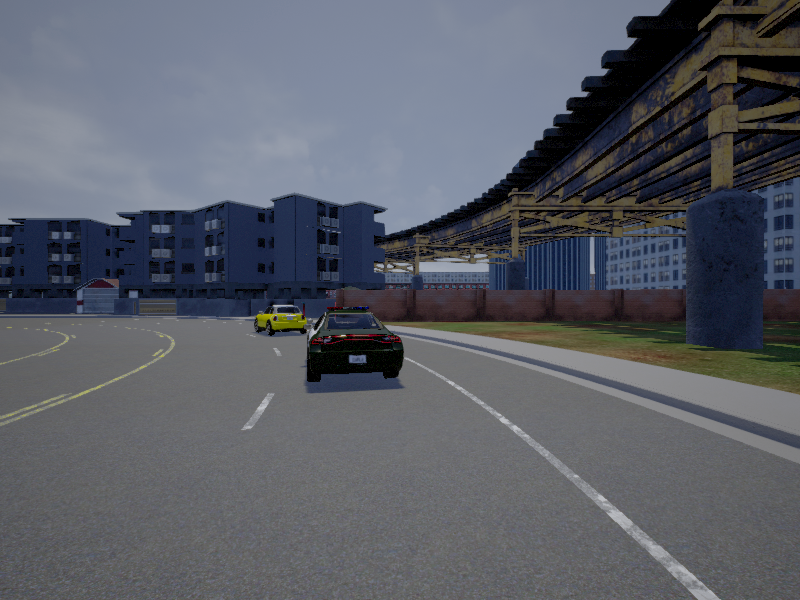Benign: (308, 306, 404, 382), (255, 305, 307, 335)
